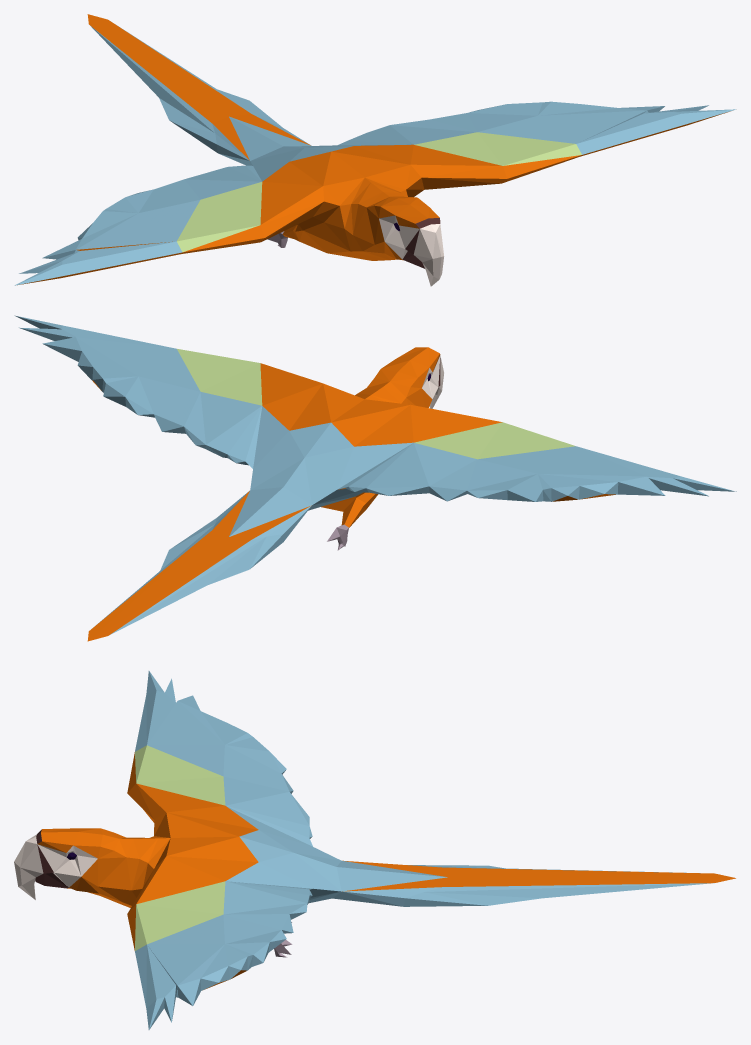
Rendered from birdsA_parrot.gltf.
The picture shows the model from 3 angles, top to bottom: view 1: azimuth 30°, elevation 25°; view 2: azimuth 150°, elevation 25°; view 3: azimuth 270°, elevation 25°; orthographic projection. The views are drawn at different scales.
Visible parts, largest first — view 1: parrot_colorMap; view 2: parrot_colorMap; view 3: parrot_colorMap.
Part boxes in pixels (<box>): parrot_colorMap: <box>14,14,736,286</box>; parrot_colorMap: <box>14,315,736,641</box>; parrot_colorMap: <box>14,671,735,1029</box>.
Size of the model in its own units: 119 by 16.98 by 101.
